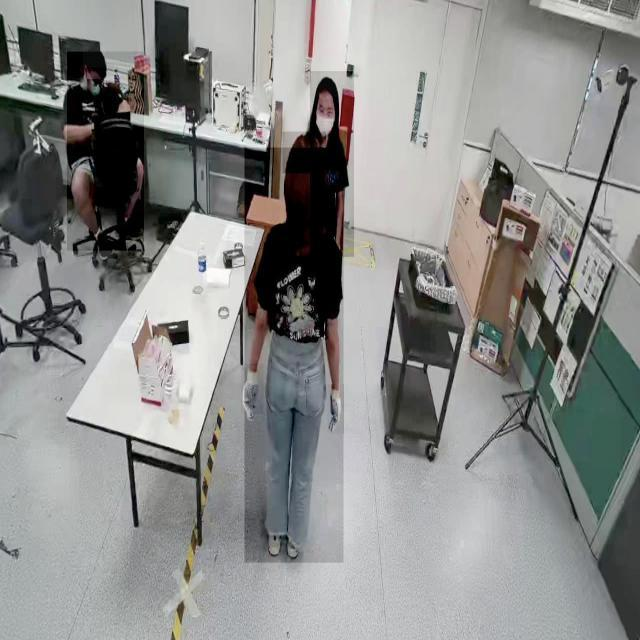gloves: (241, 364, 264, 416), (327, 384, 345, 434)
